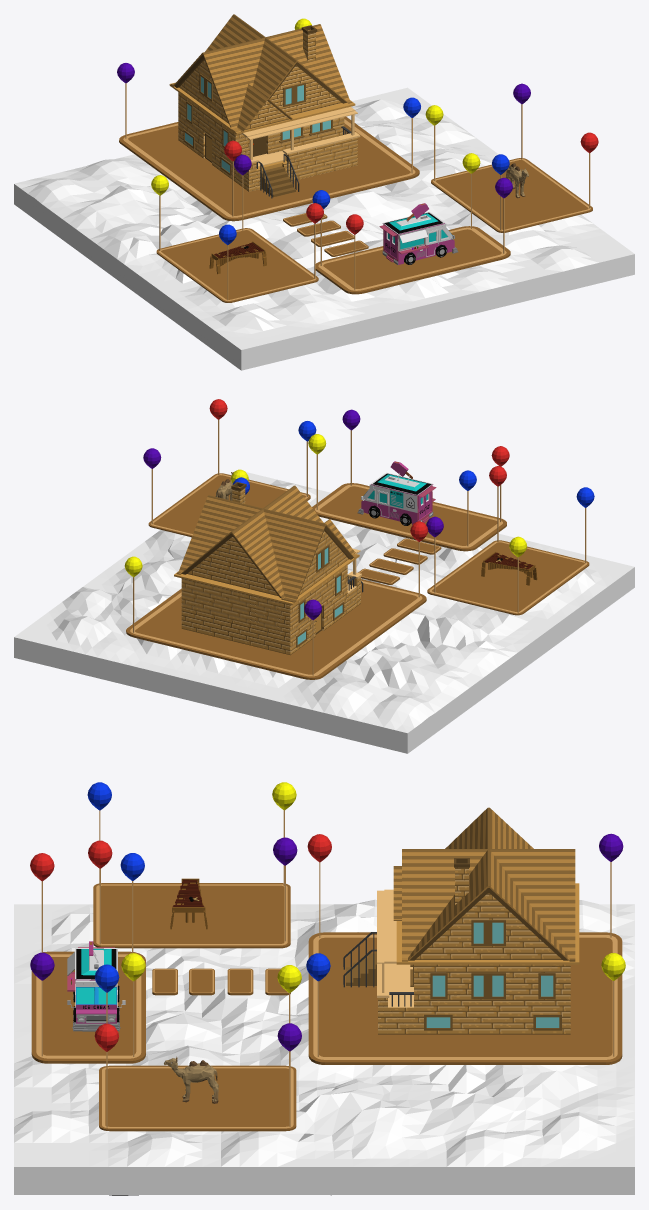
3 renders of one model, top to bottom at view 1: azimuth 30°, elevation 25°; view 2: azimuth 150°, elevation 25°; view 3: azimuth 270°, elevation 25°, orthographic. The views are drawn at different scales.
Parts seen in each view (by area): view 1: Cube.013, Cube.508, VEHICLES_ICE_CREAM_TRUCK, OBJRANDOM_MARIMBA; view 2: Cube.013, Cube.508, VEHICLES_ICE_CREAM_TRUCK, OBJRANDOM_MARIMBA; view 3: Cube.013, Cube.508, VEHICLES_ICE_CREAM_TRUCK, ANIMAL_CAMELLO, OBJRANDOM_MARIMBA.
Boxes of the visible parts, <box> form: Cube.013: <box>14,18,634,370</box>; Cube.508: <box>169,14,360,198</box>; VEHICLES_ICE_CREAM_TRUCK: <box>379,203,458,264</box>; OBJRANDOM_MARIMBA: <box>209,241,266,274</box>; Cube.013: <box>14,399,634,753</box>; Cube.508: <box>174,482,363,655</box>; VEHICLES_ICE_CREAM_TRUCK: <box>357,461,436,525</box>; OBJRANDOM_MARIMBA: <box>481,551,537,585</box>; Cube.013: <box>14,782,634,1194</box>; Cube.508: <box>343,807,579,1034</box>; VEHICLES_ICE_CREAM_TRUCK: <box>67,941,125,1031</box>; ANIMAL_CAMELLO: <box>164,1056,218,1103</box>; OBJRANDOM_MARIMBA: <box>170,878,207,929</box>.
Bounding box in the file's own units: 4000 × 1661 × 4000.
43 materials, 2 textured.
